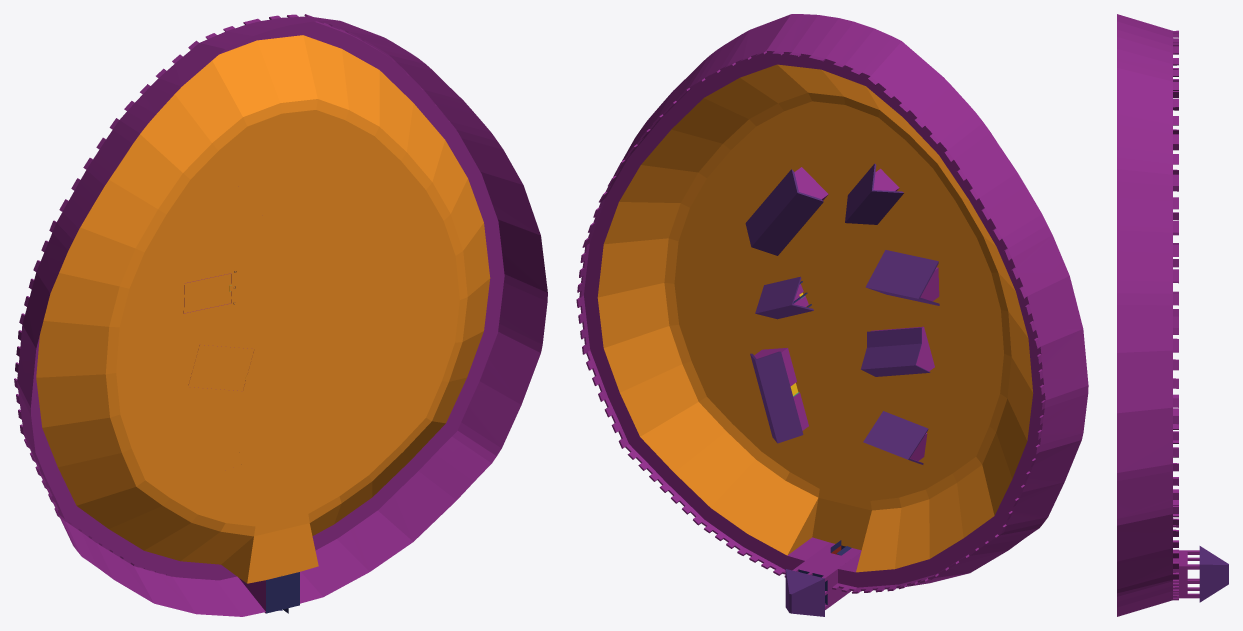
The model's file is PiotrówkaV3.fbx.
3 renders of one model, left to right at view 1: azimuth 30°, elevation 25°; view 2: azimuth 150°, elevation 25°; view 3: azimuth 270°, elevation 25°, orthographic. The views are drawn at different scales.
Visible parts, largest first — view 1: Piotrowka; view 2: Piotrowka; view 3: Piotrowka.
Boxes of the visible parts, box(x1,y1,x2,y2) form: Piotrowka: box(14, 14, 547, 616); Piotrowka: box(576, 14, 1088, 616); Piotrowka: box(1117, 14, 1228, 616).
Bounding box in the file's own units: 3.78 × 4.11 × 0.7407.
